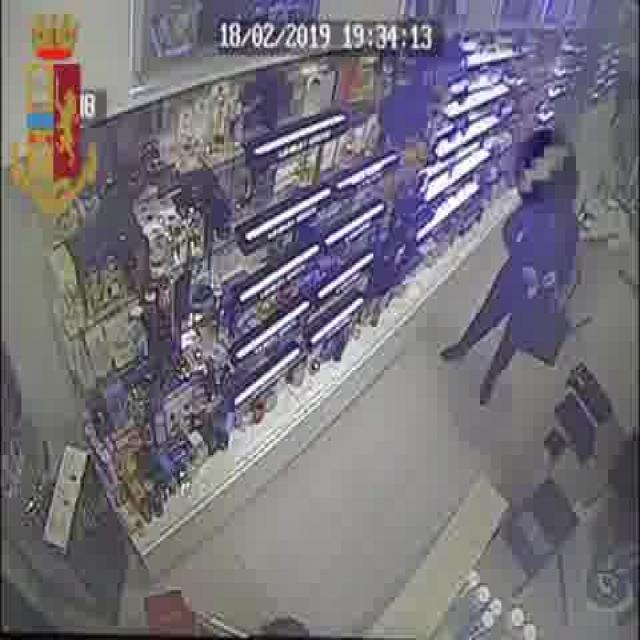Shoplifting: (439, 123, 590, 407)
